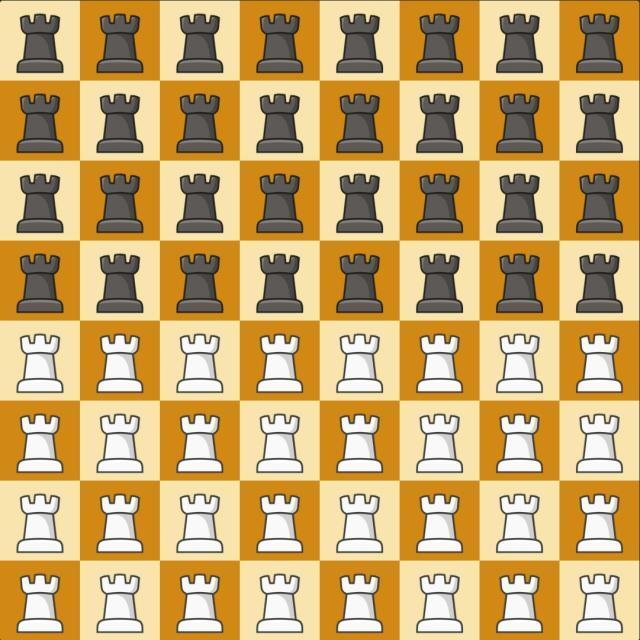black-rook: (256, 174, 303, 234), (256, 253, 303, 313), (256, 93, 303, 153), (256, 13, 303, 73), (337, 14, 384, 74), (337, 94, 384, 154), (337, 174, 384, 234), (336, 253, 383, 313), (417, 13, 464, 73), (416, 94, 463, 154), (417, 173, 464, 233), (416, 254, 463, 314), (496, 253, 543, 313), (496, 174, 543, 234), (496, 13, 543, 73), (496, 94, 543, 154), (577, 14, 624, 74), (577, 93, 624, 153), (576, 173, 623, 233), (577, 254, 624, 314), (177, 14, 224, 74), (97, 14, 144, 74), (17, 14, 64, 74), (17, 94, 64, 154), (96, 94, 143, 154), (176, 94, 223, 154), (176, 173, 223, 233), (96, 174, 143, 234), (16, 174, 63, 234), (17, 254, 64, 314), (97, 254, 144, 314), (177, 254, 224, 314)
white-rook: (17, 333, 64, 393), (96, 334, 143, 394), (177, 334, 224, 394), (256, 334, 303, 394), (336, 333, 383, 393), (416, 333, 463, 393), (496, 333, 543, 393), (576, 333, 623, 393), (577, 413, 624, 473), (496, 413, 543, 473), (416, 414, 463, 474), (337, 413, 384, 473), (256, 414, 303, 474), (176, 413, 223, 473), (97, 413, 144, 473), (17, 414, 64, 474), (17, 494, 64, 554), (97, 494, 144, 554), (177, 494, 224, 554), (257, 493, 304, 553), (337, 493, 384, 553), (417, 493, 464, 553), (497, 493, 544, 553), (577, 493, 624, 553), (577, 573, 624, 633), (496, 574, 543, 634), (416, 573, 463, 633), (337, 573, 384, 633), (257, 573, 304, 633), (177, 573, 224, 633), (97, 574, 144, 634), (17, 574, 64, 634)
